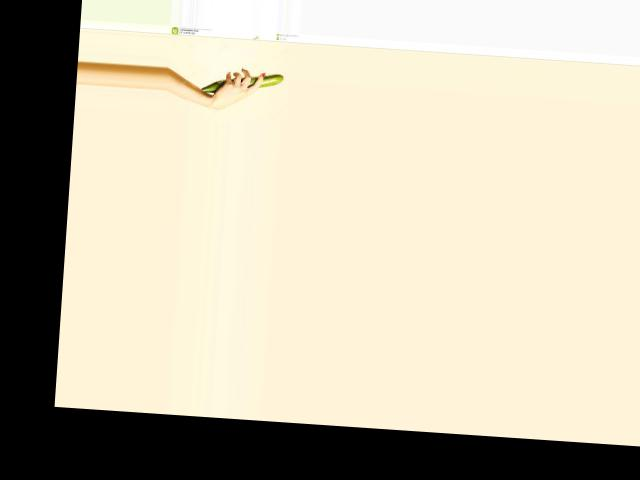cucumber: (200, 68, 283, 97)
